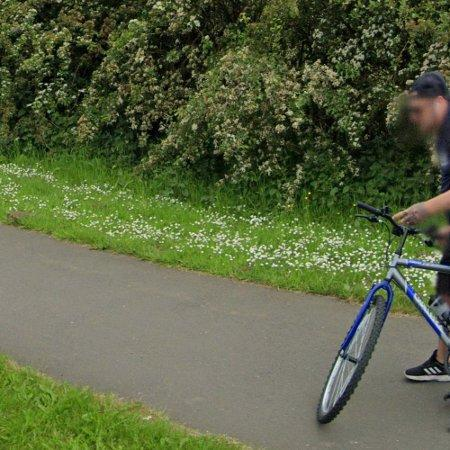bicycles: (318, 295, 387, 424)
